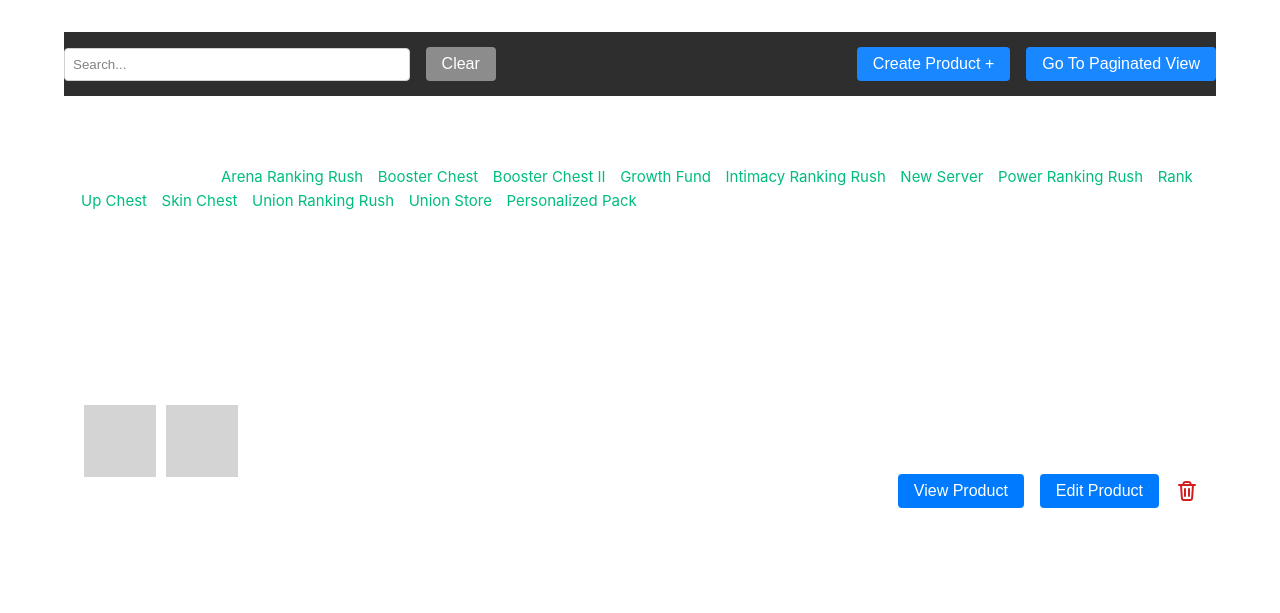
Test: Product List Page › should delete a product successfully
Note: Click delete button and handle confirmation
Click the picture with test id "delete-product-button-1679" at (1187,491), box x1=1175 y1=479 x2=1199 y2=503
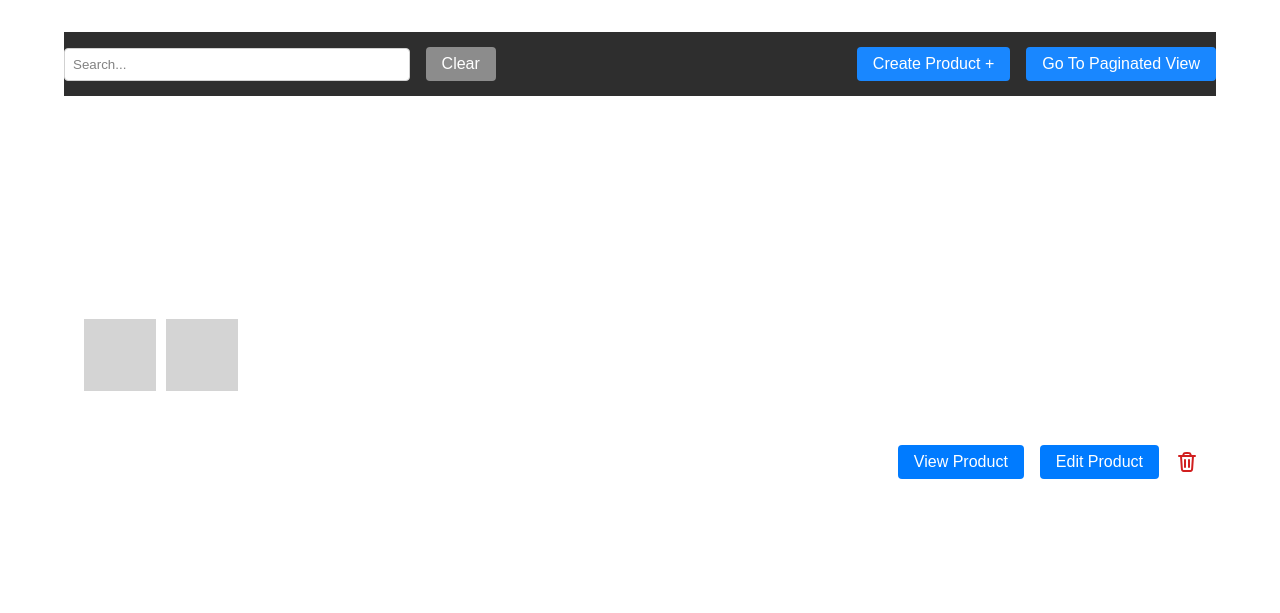
Expected: the element with test id "product-item-1679" is gone
